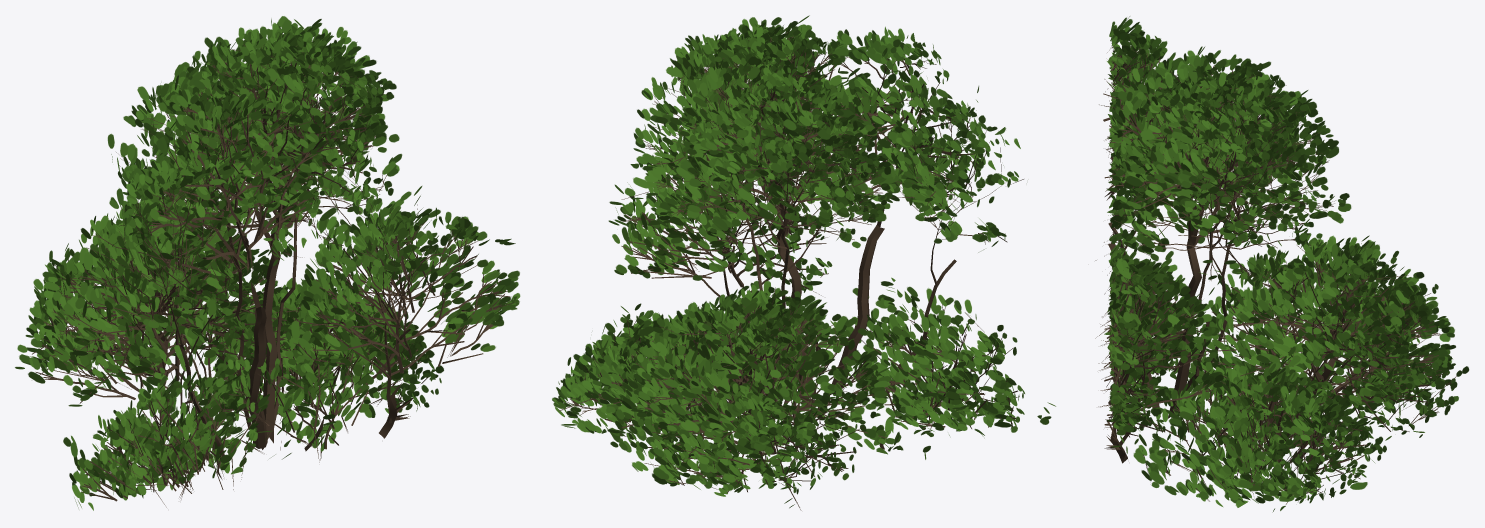
The picture shows the model from 3 angles, left to right: view 1: azimuth 30°, elevation 25°; view 2: azimuth 150°, elevation 25°; view 3: azimuth 270°, elevation 25°; orthographic projection. The views are drawn at different scales.
Parts seen in each view (by area): view 1: oak 01.001_trunk_Mat.001_0.285; view 2: oak 01.001_trunk_Mat.001_0.285; view 3: oak 01.001_trunk_Mat.001_0.285.
Part boxes in pixels (bbox=[...]): oak 01.001_trunk_Mat.001_0.285: bbox=[15, 16, 520, 510]; oak 01.001_trunk_Mat.001_0.285: bbox=[552, 15, 1055, 510]; oak 01.001_trunk_Mat.001_0.285: bbox=[1095, 16, 1469, 512].
Bounding box in the file's own units: 5.24 × 4.55 × 4.02.
2 materials, 1 textured.
